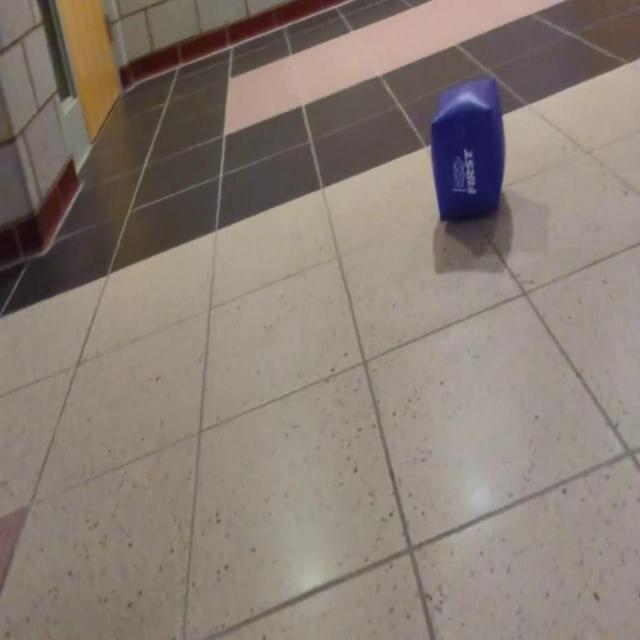frc_cube: (431, 77, 505, 223)
